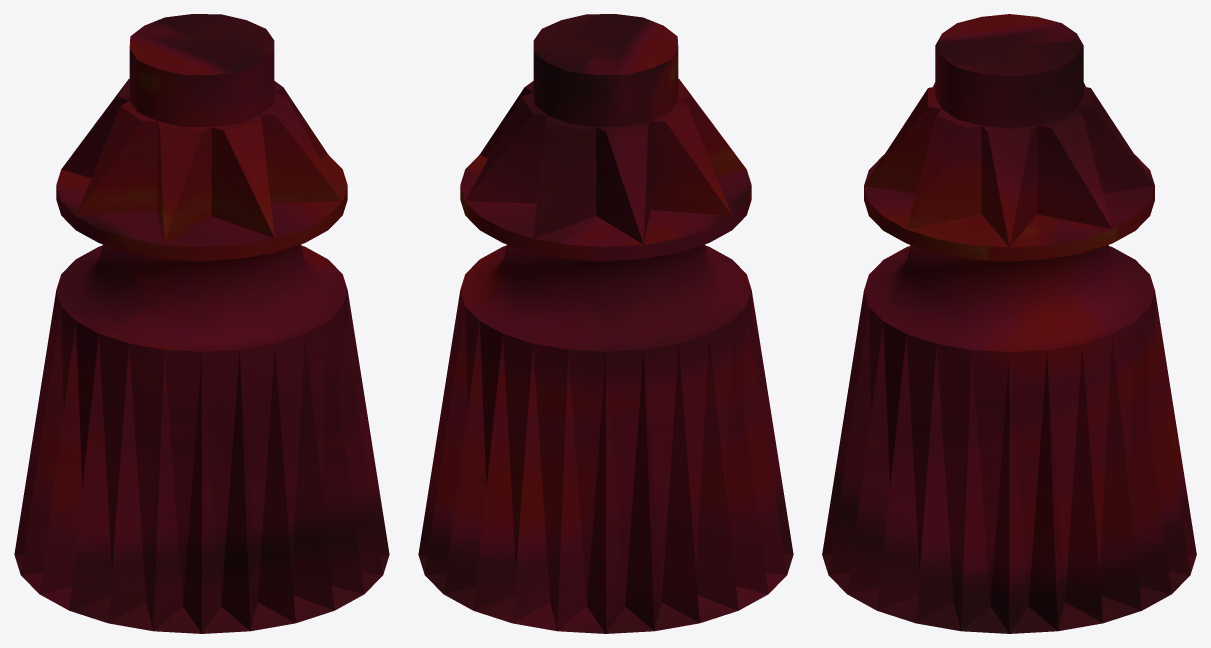
Rendered from PegPlasticT6.fbx.
3 views of the same model, side by side, from view 1: azimuth 30°, elevation 25°; view 2: azimuth 150°, elevation 25°; view 3: azimuth 270°, elevation 25° (orthographic).
Parts seen in each view (by area): view 1: PegPlasticT6; view 2: PegPlasticT6; view 3: PegPlasticT6.
Part boxes in pixels (<box>): PegPlasticT6: <box>14,14,389,633</box>; PegPlasticT6: <box>418,14,793,633</box>; PegPlasticT6: <box>822,14,1196,633</box>.
Size of the model in its own units: 1.85 by 2.77 by 1.85.
Materials: 1 (1 with a texture image).
